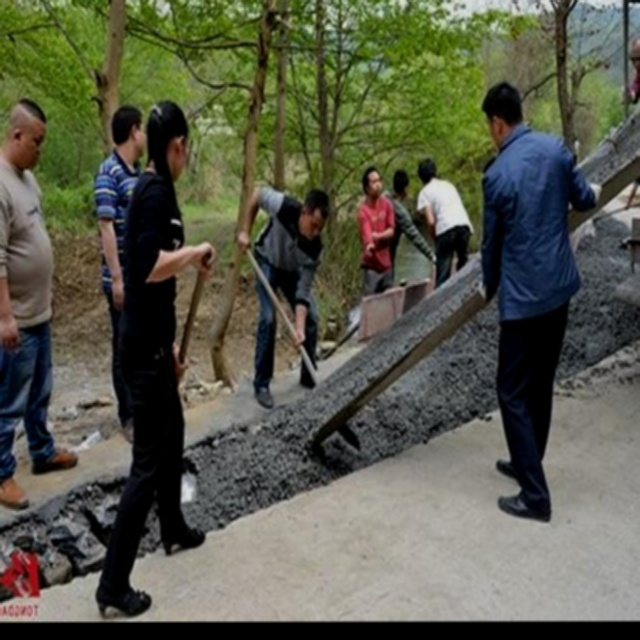Sin_Casco_Mascarrilla: (146, 99, 192, 175), (481, 81, 523, 141), (299, 188, 330, 241)
